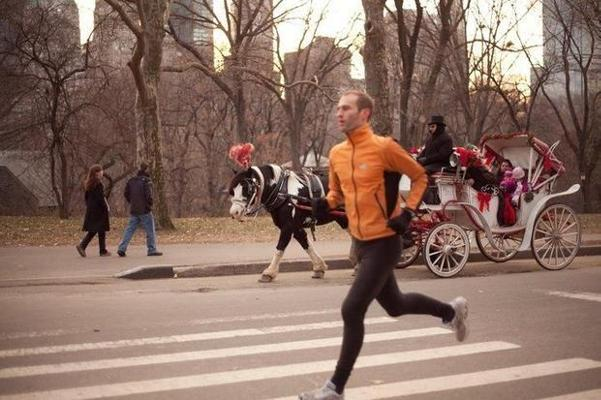person: (297, 89, 470, 400)
